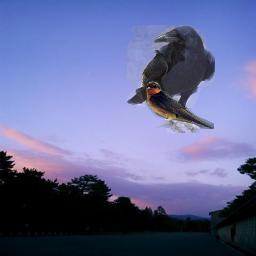Crow: (127, 25, 215, 133)
Swallow: (145, 80, 214, 129)
